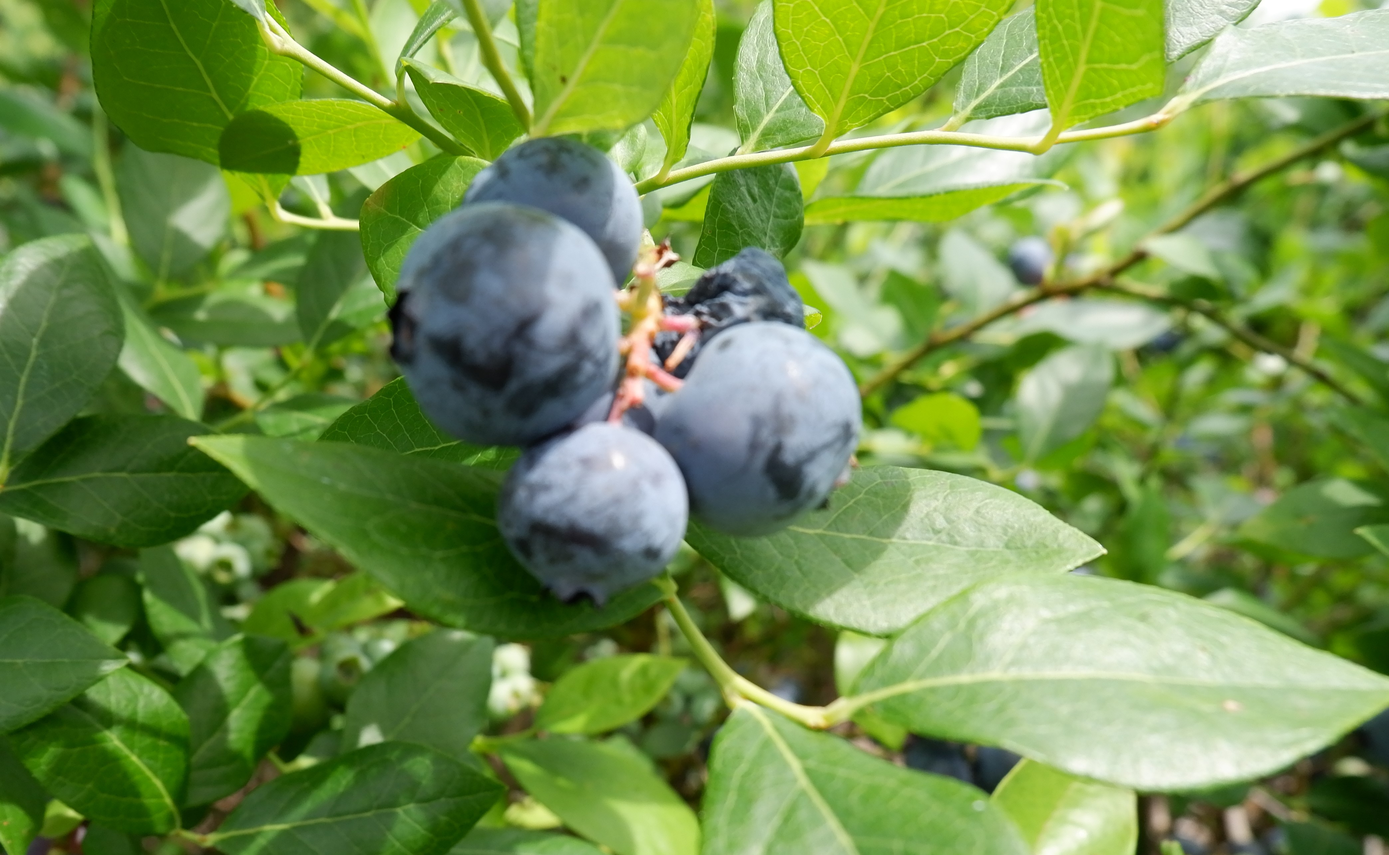Mature: (389, 205, 617, 442), (656, 326, 859, 532), (497, 423, 684, 599), (468, 140, 640, 277), (657, 251, 805, 376), (569, 348, 676, 437)
